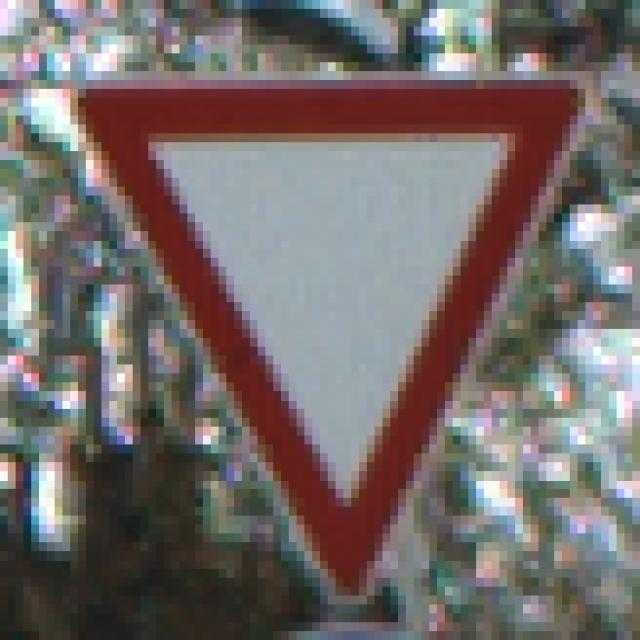give way: (58, 55, 602, 614)
